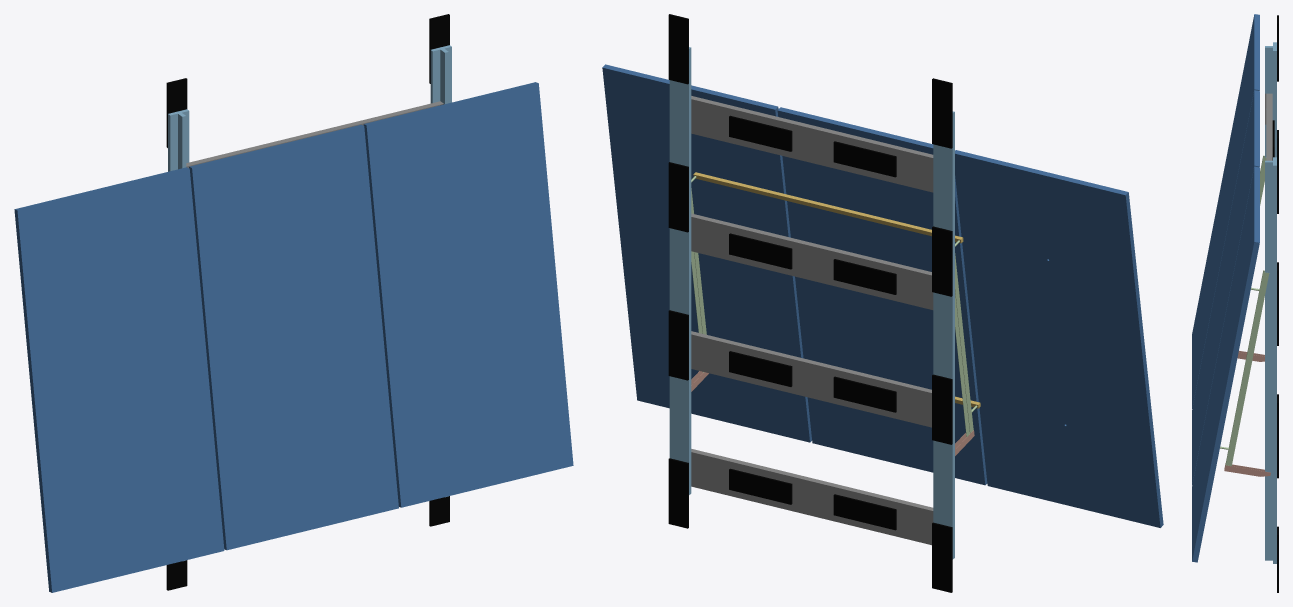
The model's file is Solar Rail.glb.
3 views of the same model, side by side, from view 1: azimuth 30°, elevation 25°; view 2: azimuth 150°, elevation 25°; view 3: azimuth 270°, elevation 25° (orthographic). The views are drawn at different scales.
Size of the model in its own units: 3429 by 3188 by 551.
